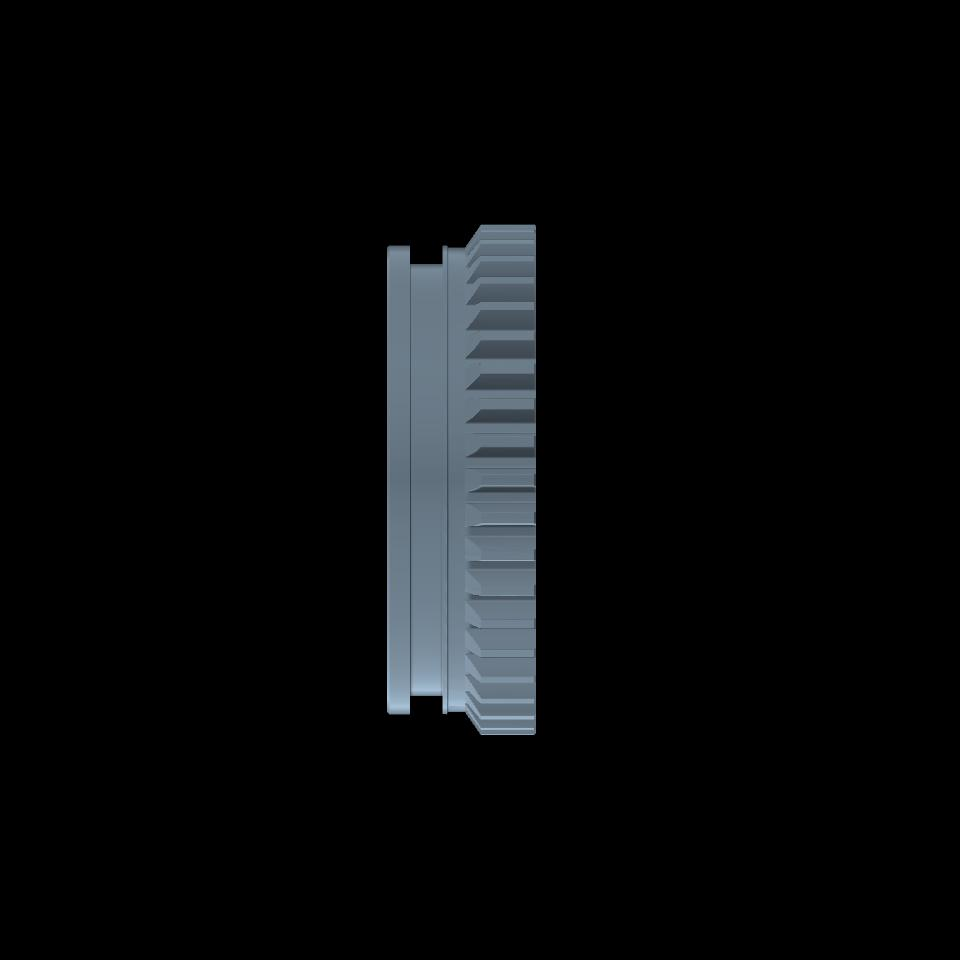Straight: (481, 224, 536, 736)
